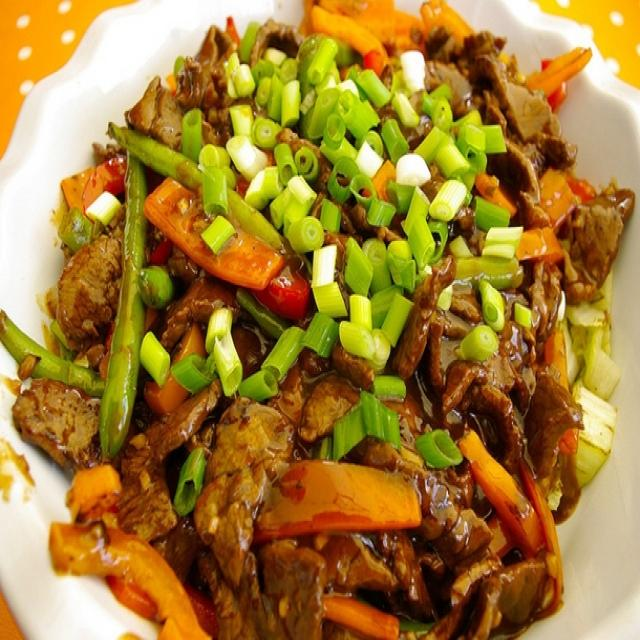牛肉菜式: (53, 31, 597, 626)
